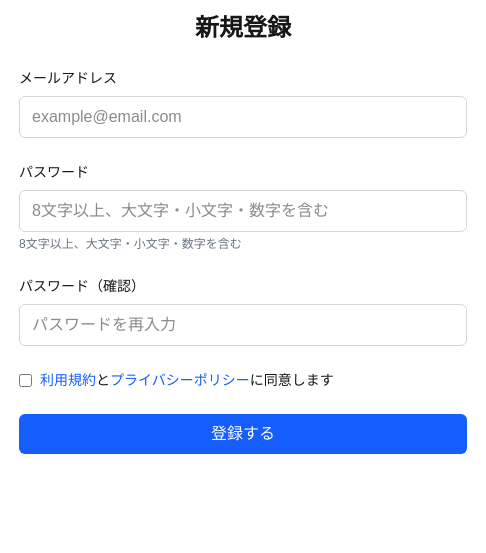
Test: SignUpForm › 有効な入力で登録が成功すること
The width and height of the screenshot is (486, 553).
Type "test@example.com" into the field labelled "メールアドレス". click: x=243, y=117
box: top-left (19, 96), bottom-right (467, 138)
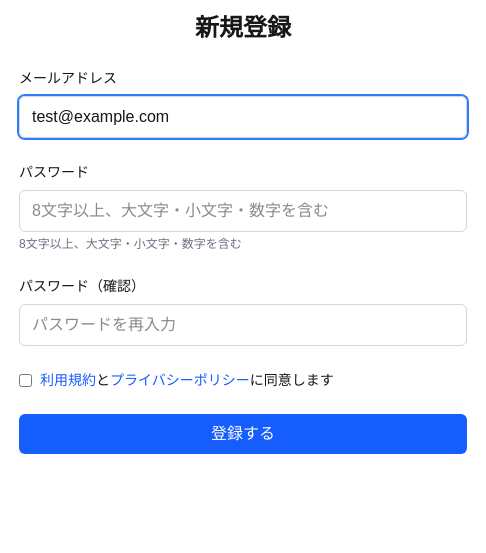
Type "Password123" into the password field labelled "パスワード". click: x=243, y=211
box: top-left (19, 190), bottom-right (467, 232)
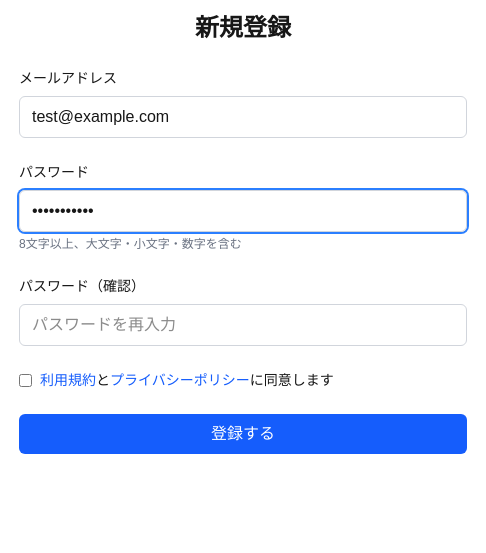
Type "Password123" into the password field labelled "パスワード（確認）". click: x=243, y=325
box: top-left (19, 304), bottom-right (467, 346)
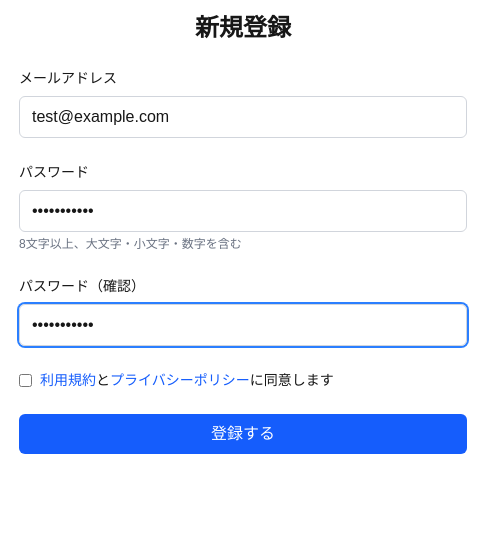
Click the checkbox. click: x=26, y=380
box: top-left (19, 374), bottom-right (32, 387)
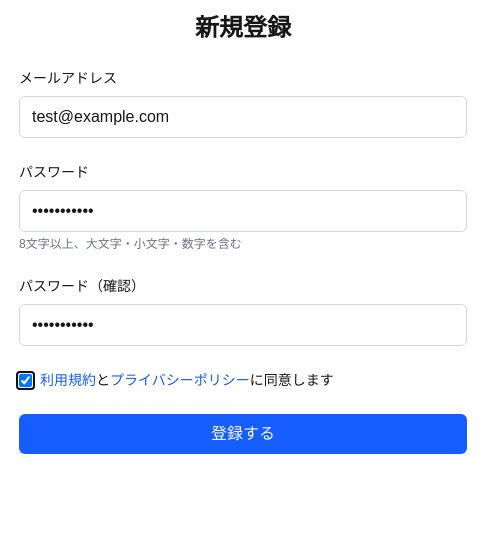
Click the button "登録する". click: x=243, y=434
box: top-left (19, 414), bottom-right (467, 454)
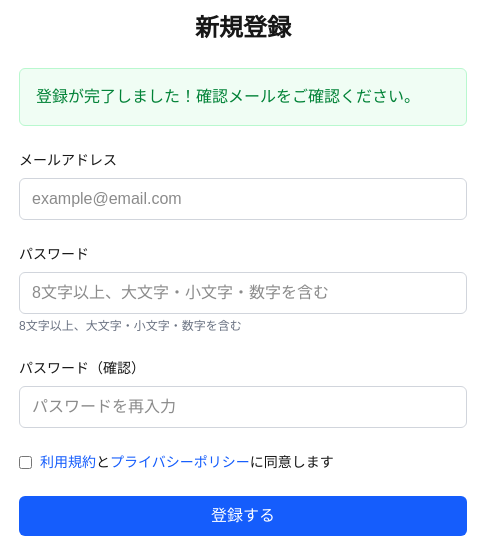
expect the text "登録が完了しました！確認メールをご確認ください。" is shown: met, box top-left (19, 68), bottom-right (467, 126)
